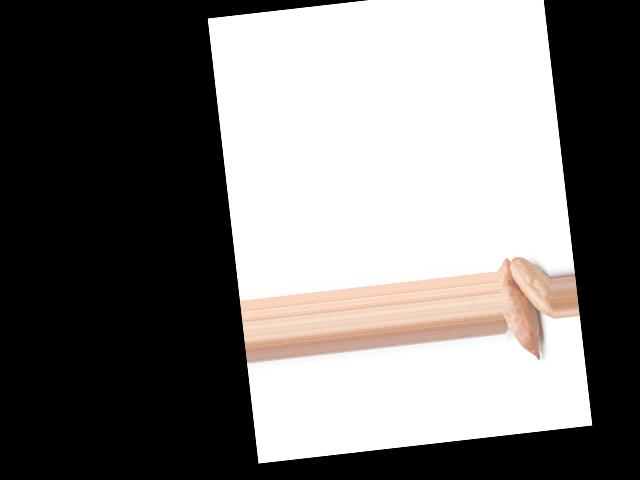sweet_potato: (509, 253, 555, 326)
